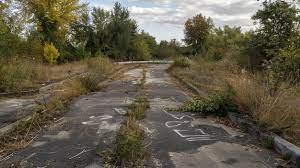graffiti: (165, 116, 226, 144)
overgrown grass: (0, 57, 120, 163), (182, 60, 299, 148), (110, 93, 148, 167), (171, 85, 247, 114), (137, 69, 147, 89)
